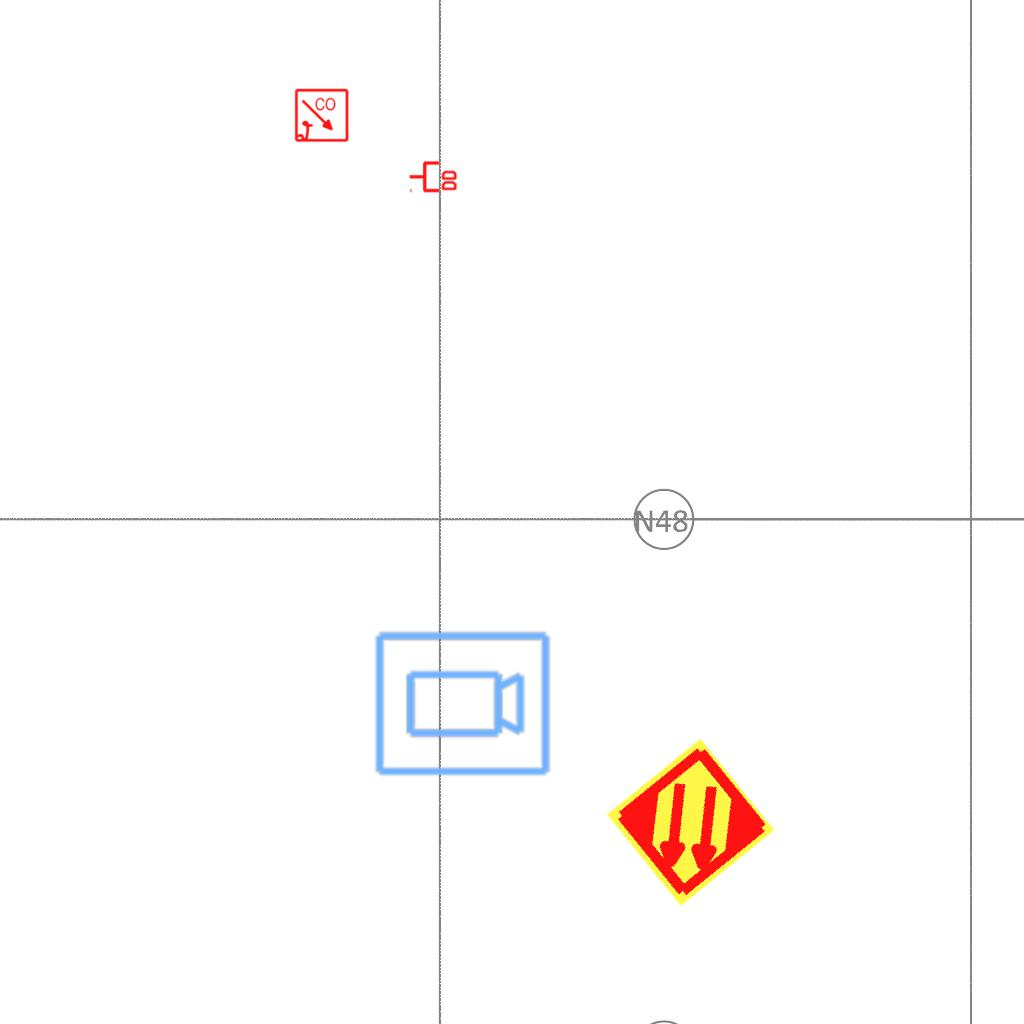ASR_Ansaugrauchmelder: (602, 734, 779, 911)
Datenanschluss_zweifach: (408, 159, 459, 193)
KFO_Kamera_mit_Festobjektiv: (371, 628, 553, 782)
ROA_Rauchmelder_optisch_mit_Signalgeber_(Sockelsirene): (294, 88, 350, 144)
